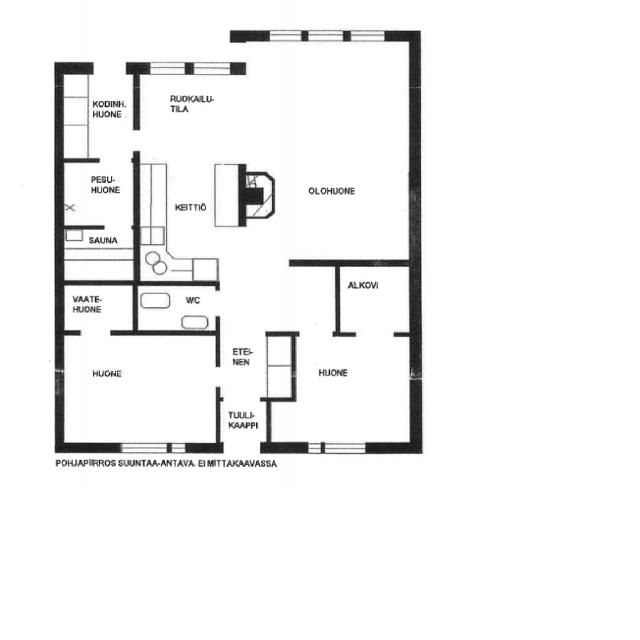door: (297, 312, 337, 338)
window: (294, 28, 389, 44), (264, 26, 348, 43), (298, 440, 372, 457), (114, 440, 179, 456), (188, 58, 237, 77), (344, 26, 391, 44), (144, 58, 189, 76), (83, 60, 133, 74)
zone: (244, 41, 412, 259), (135, 79, 247, 282), (57, 330, 218, 448), (272, 333, 416, 448), (136, 70, 250, 166), (61, 72, 137, 161), (59, 158, 138, 228), (338, 261, 410, 335), (57, 226, 138, 282), (60, 282, 136, 333), (137, 284, 214, 332)
